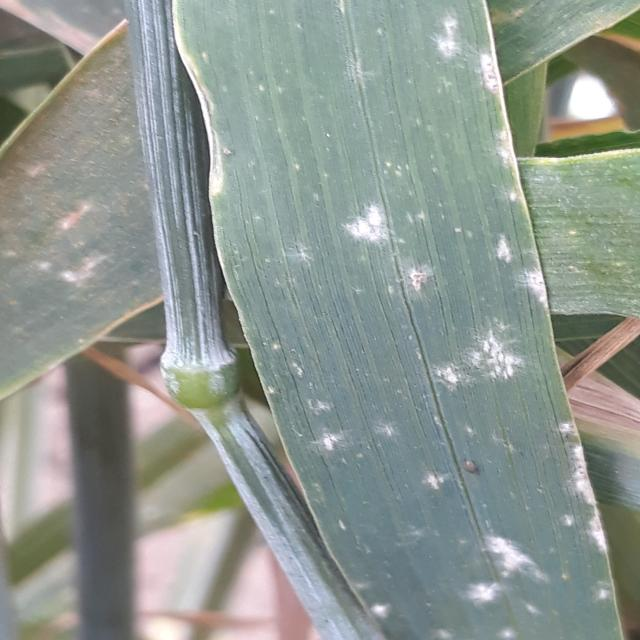powder_mildew: (186, 15, 622, 640), (0, 22, 196, 397)
